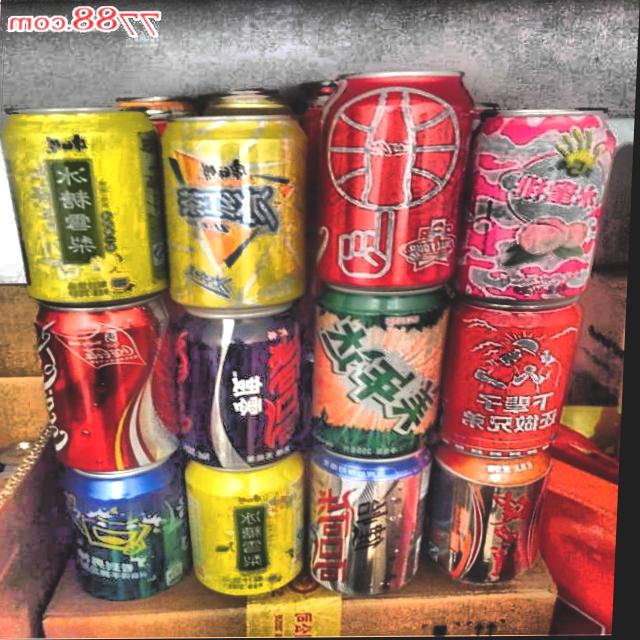can: (0, 98, 178, 307), (309, 63, 476, 282), (447, 97, 621, 298), (156, 107, 319, 308), (25, 282, 186, 475), (308, 281, 457, 460), (444, 279, 592, 455), (173, 284, 314, 465), (310, 446, 438, 598), (187, 449, 313, 597), (429, 443, 557, 586), (65, 465, 198, 598), (198, 72, 288, 108), (107, 86, 198, 118)
